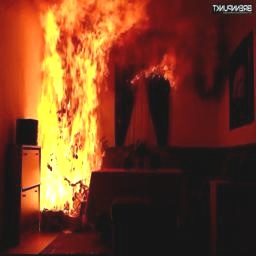fire: (11, 0, 149, 213)
